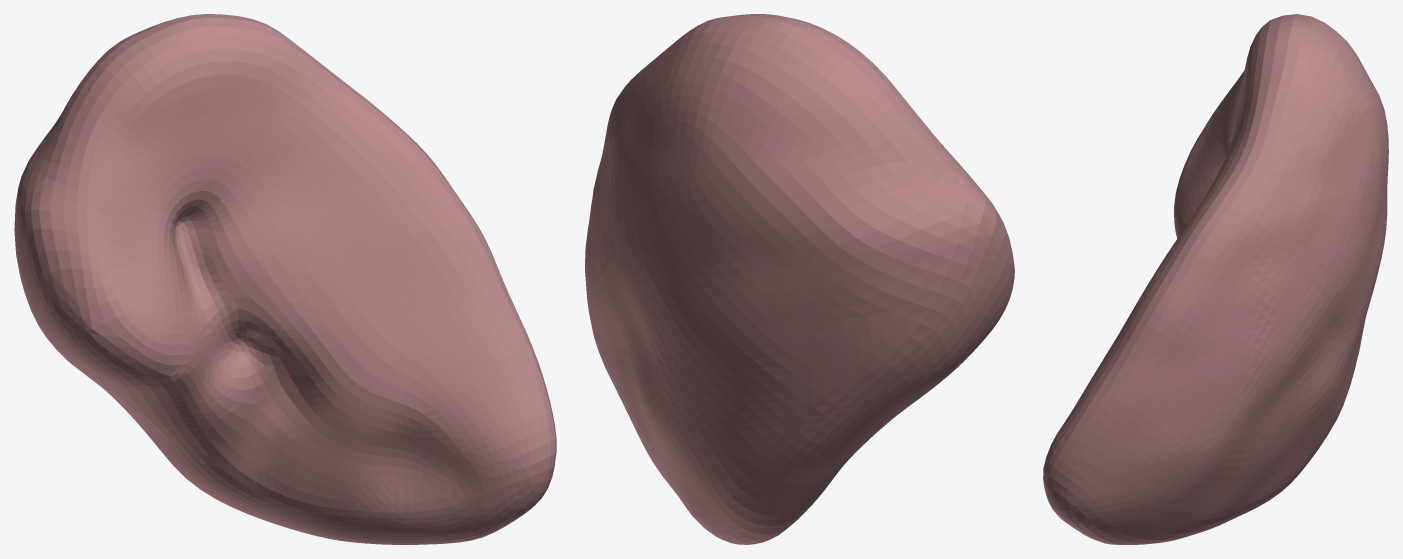
Rendered from VH_F_Spleen_0.8.glb.
3 renders of one model, left to right at view 1: azimuth 30°, elevation 25°; view 2: azimuth 150°, elevation 25°; view 3: azimuth 270°, elevation 25°, orthographic. The views are drawn at different scales.
Visible parts, largest first — view 1: VH_F_gastric_surface_of_spleen, VH_F_hilum_of_spleen, VH_F_diaphragmatic_surface_of_spleen, VH_F_renal_surface_of_spleen, VH_F_colic_surface_of_spleen; view 2: VH_F_diaphragmatic_surface_of_spleen; view 3: VH_F_diaphragmatic_surface_of_spleen, VH_F_gastric_surface_of_spleen, VH_F_hilum_of_spleen.
Part boxes in pixels (left/top/right/bottom): VH_F_gastric_surface_of_spleen: left=77, top=36, right=555, bottom=477; VH_F_hilum_of_spleen: left=163, top=190, right=479, bottom=512; VH_F_diaphragmatic_surface_of_spleen: left=14, top=14, right=556, bottom=544; VH_F_renal_surface_of_spleen: left=67, top=329, right=477, bottom=544; VH_F_colic_surface_of_spleen: left=458, top=453, right=555, bottom=537; VH_F_diaphragmatic_surface_of_spleen: left=585, top=14, right=1014, bottom=544; VH_F_diaphragmatic_surface_of_spleen: left=1047, top=14, right=1388, bottom=544; VH_F_gastric_surface_of_spleen: left=1043, top=20, right=1269, bottom=475; VH_F_hilum_of_spleen: left=1177, top=136, right=1232, bottom=237.
Size of the model in its own units: 0.0896 by 0.1023 by 0.0709.
